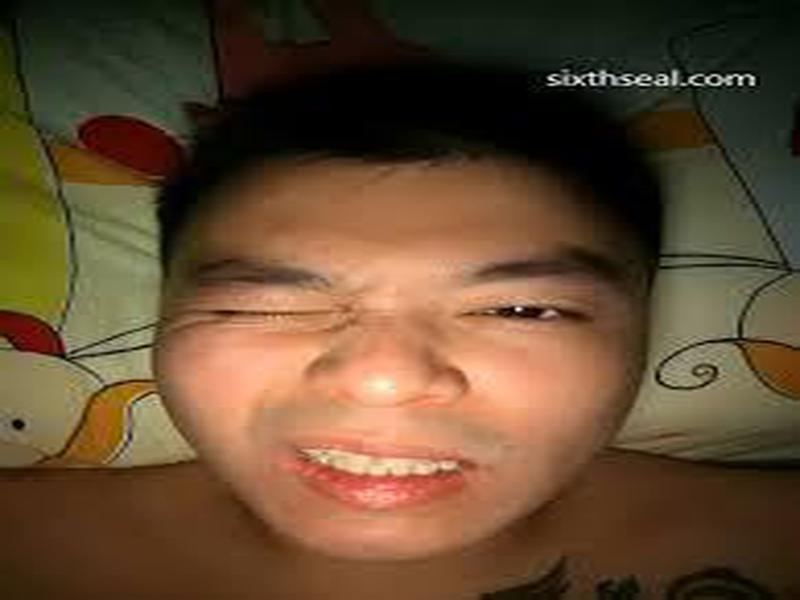without_mask: (158, 181, 631, 564)
